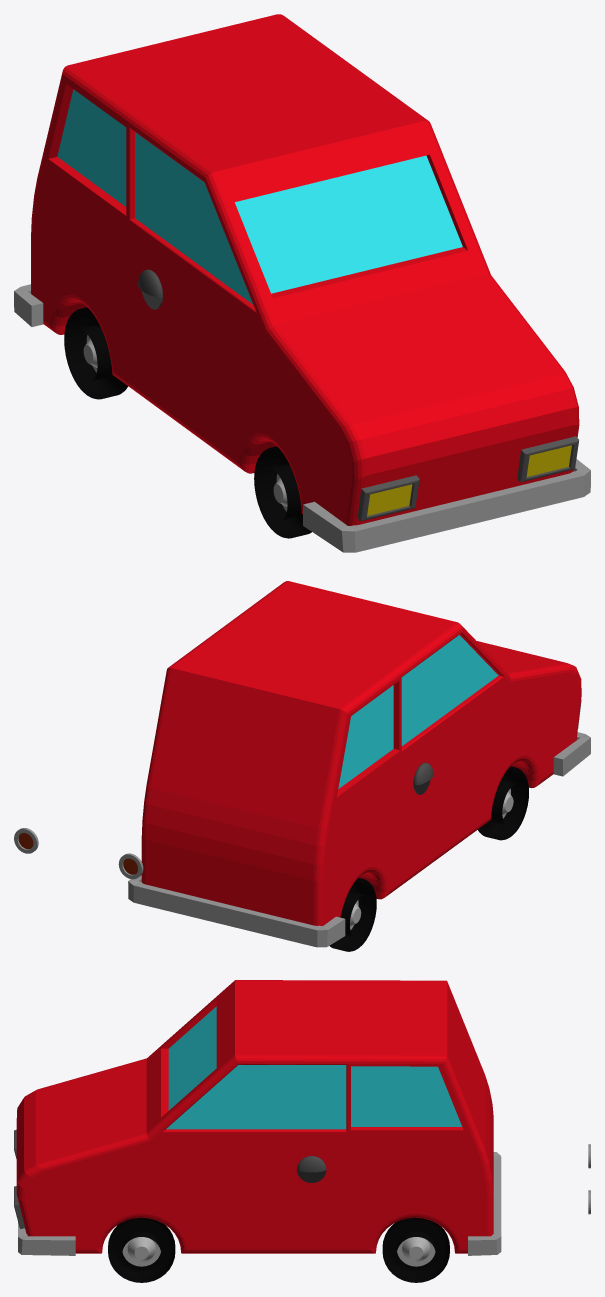
Rendered from 206fullOption.fbx.
3 views of the same model, one above another, from view 1: azimuth 30°, elevation 25°; view 2: azimuth 150°, elevation 25°; view 3: azimuth 270°, elevation 25° (orthographic). The views are drawn at different scales.
Parts seen in each view (by area): view 1: Circle, Circle.003, Cube.001, Circle.002, Circle.001, Sphere; view 2: Circle, Circle.003, Circle.001, Circle.002, lightBack, Sphere; view 3: Circle, Circle.001, Circle.002, Circle.003, Sphere.
Boxes of the visible parts, bbox=[...] form: Circle: bbox=[31, 14, 579, 525]; Circle.003: bbox=[14, 284, 590, 552]; Cube.001: bbox=[357, 436, 579, 521]; Circle.002: bbox=[64, 307, 127, 399]; Circle.001: bbox=[254, 446, 311, 538]; Sphere: bbox=[138, 269, 162, 309]; Circle: bbox=[141, 581, 581, 925]; Circle.003: bbox=[128, 732, 590, 947]; Circle.001: bbox=[478, 766, 528, 840]; Circle.002: bbox=[329, 878, 376, 951]; lightBack: bbox=[14, 828, 143, 879]; Sphere: bbox=[413, 762, 433, 794]; Circle: bbox=[16, 980, 493, 1253]; Circle.001: bbox=[108, 1217, 175, 1282]; Circle.002: bbox=[382, 1217, 449, 1282]; Circle.003: bbox=[18, 1152, 501, 1255]; Sphere: bbox=[297, 1156, 326, 1182].
Size of the model in its own units: 468 by 431 by 985.
